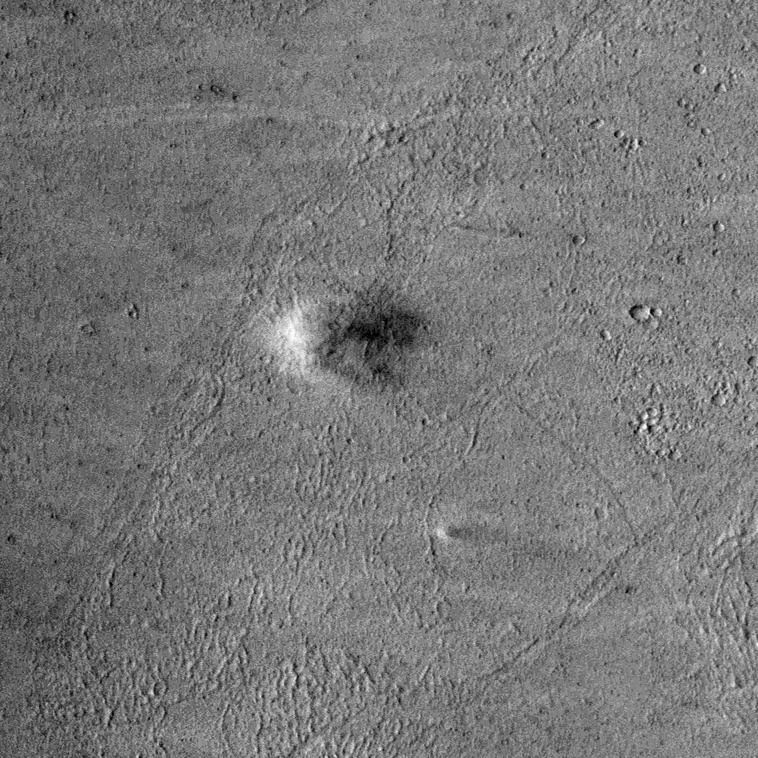dust_devil: (270, 286, 430, 391), (435, 522, 482, 547)
